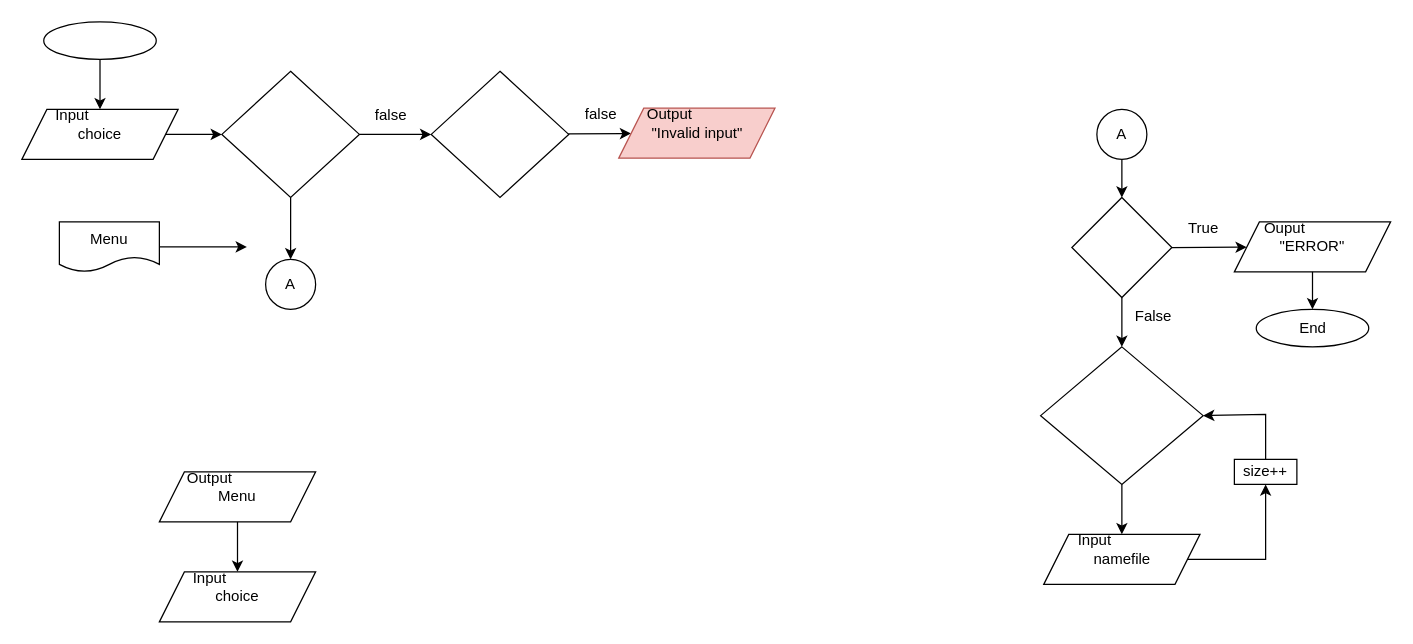
Image size: 1413x644. Some labels were removed from this diagram. Here are the shapes that lost their labels. From the top down, the centre of each, then its label:
At (99,40): "Start".
At (290,134): "(choice == 'Y' || choice == 'y')".
At (499,134): "(choice == 'N' || choice == 'n')".
At (1121,247): "!nameFile".
At (1121,415): "(!nameFile.eof() && size < SIZE)".
